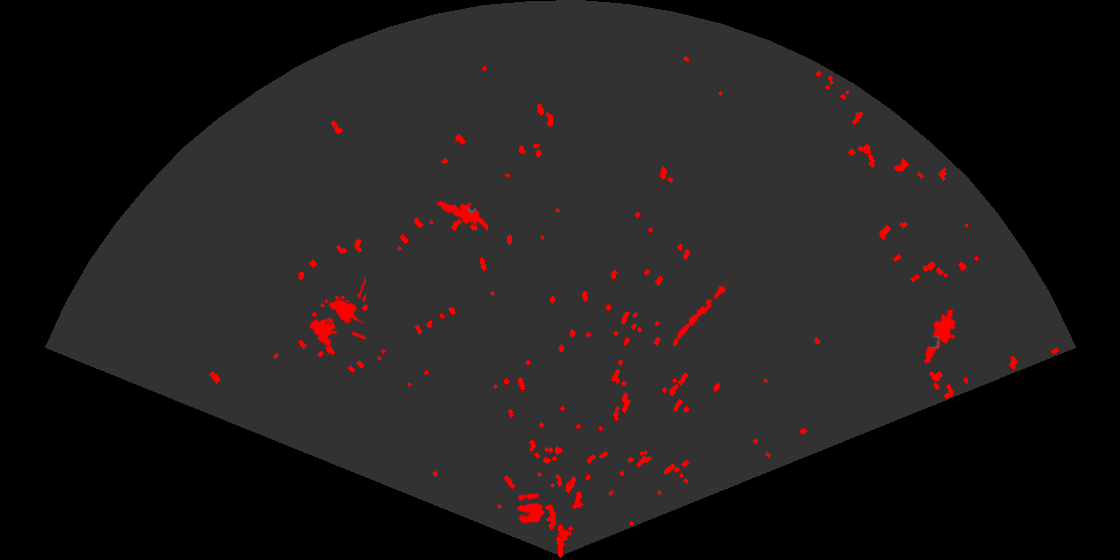ball: (515, 491, 546, 525)
cage: (308, 278, 366, 348)
chain: (671, 276, 732, 348)
frogman: (433, 196, 488, 233), (923, 310, 958, 366)
